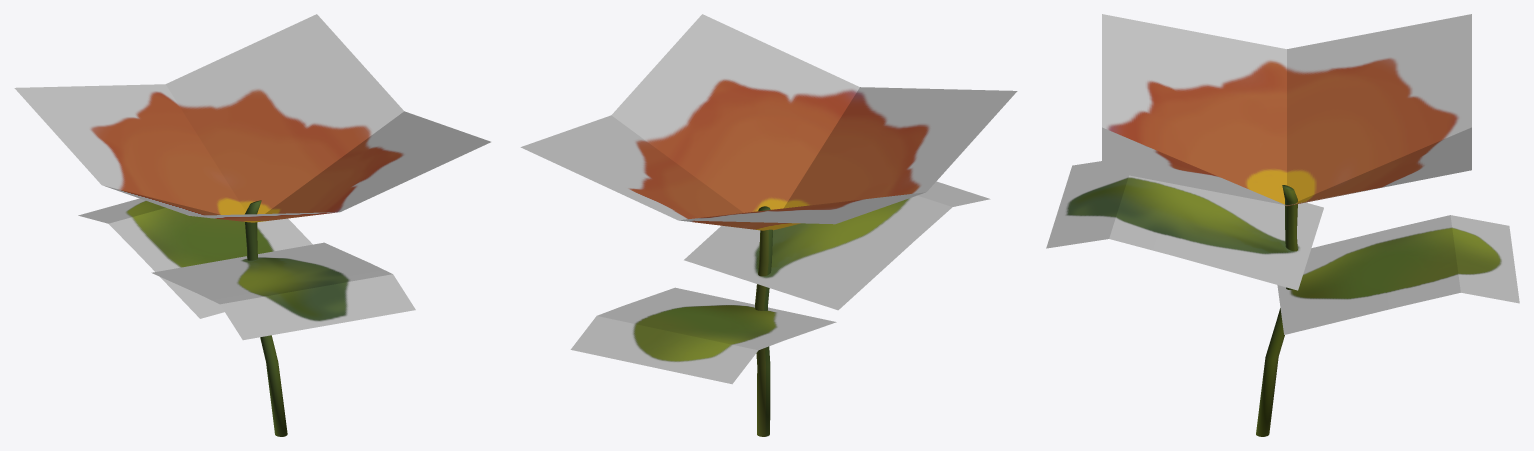
Rendered from Flower6.fbx.
The picture shows the model from 3 angles, left to right: view 1: azimuth 30°, elevation 25°; view 2: azimuth 150°, elevation 25°; view 3: azimuth 270°, elevation 25°; orthographic projection. The views are drawn at different scales.
Visible parts, largest first — view 1: Flower.009; view 2: Flower.009; view 3: Flower.009.
Part boxes in pixels (x1,y1,x2,y2): Flower.009: (14, 14, 490, 436); Flower.009: (520, 14, 1017, 436); Flower.009: (1046, 14, 1519, 436).
Bounding box in the file's own units: 513 × 510 × 657.
